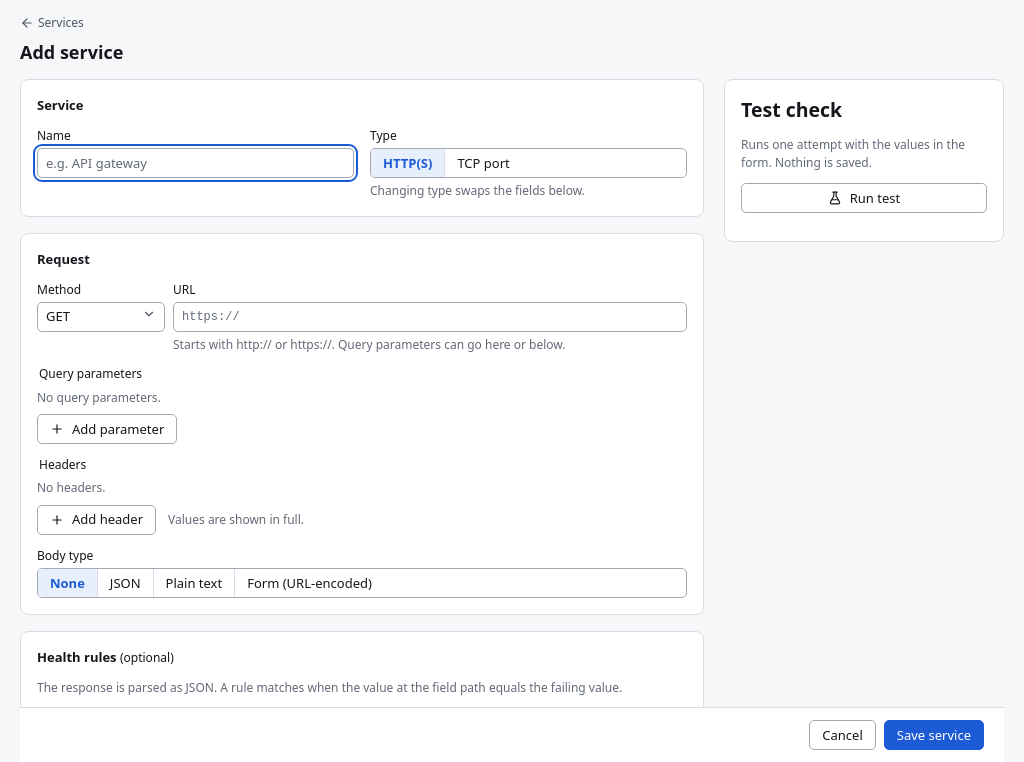
Scenario: what a test sends (FR-104) › does not need what a save needs: an empty name and bad other timing fields do not stop it
Expected: the field labelled "Name" is shown, [37,148,354,178]
Click the field labelled "URL": [430, 317] box [173,302,687,332]
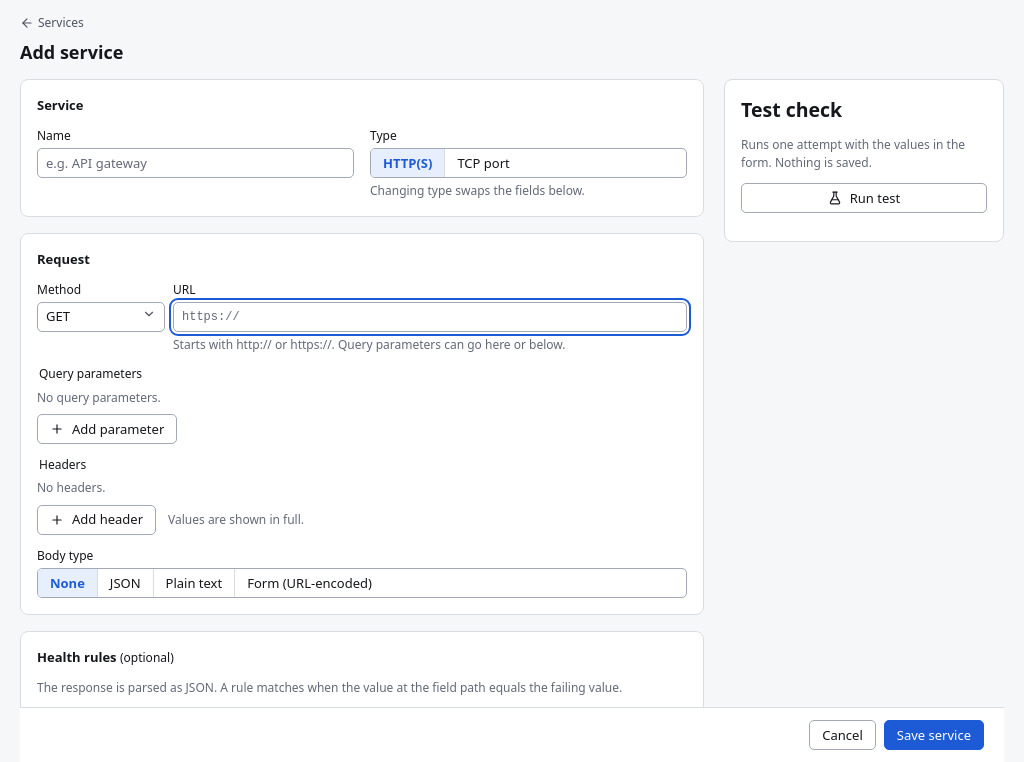
Type keys "https://probe.example.com/up"
(page scrolled)
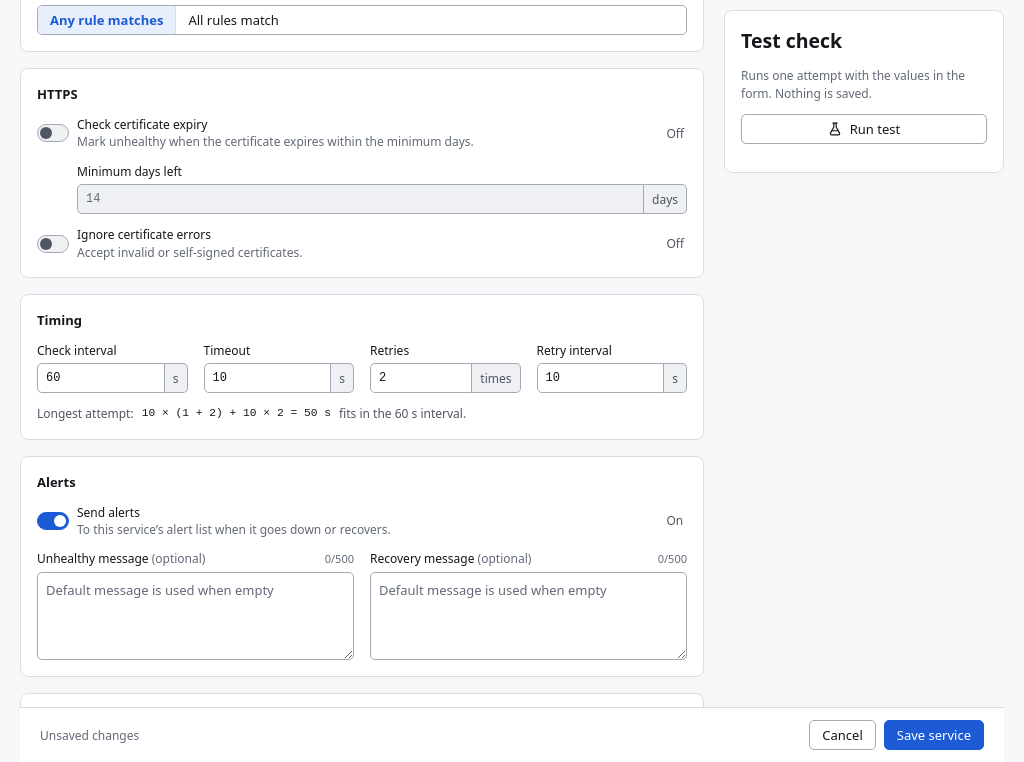
Replace the text in the field labelled "Check interval" with "abc": [101, 378] box [37,363,165,393]
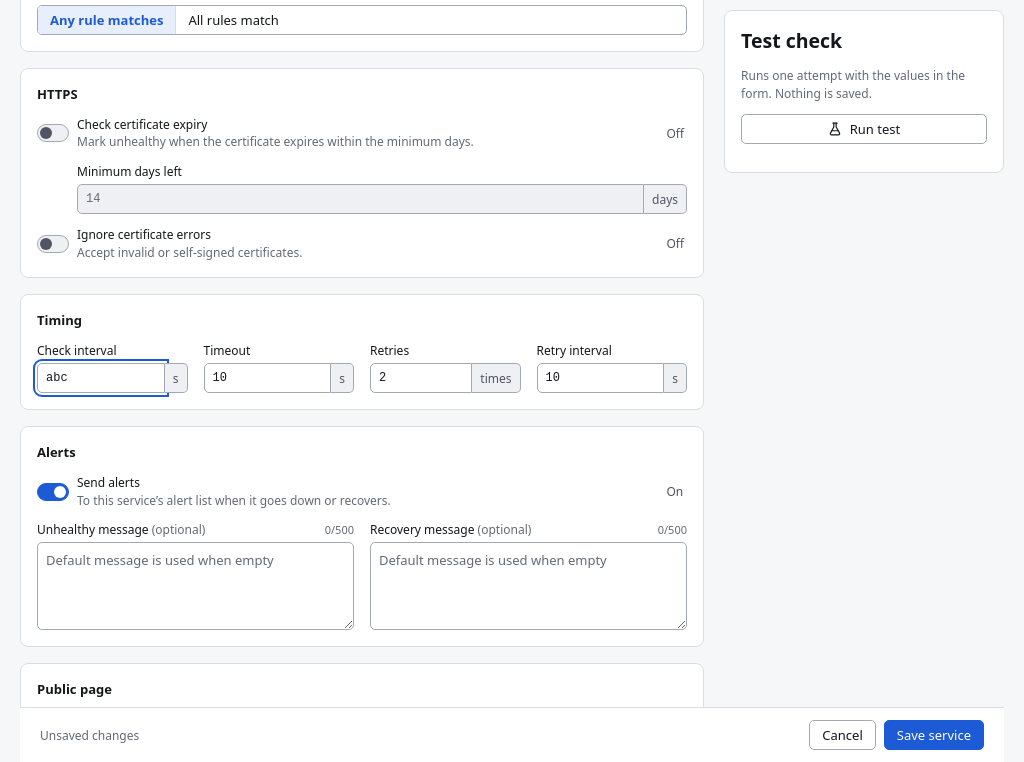
Replace the text in the field labelled "Retries" with "abc": [421, 378] box [370,363,472,393]
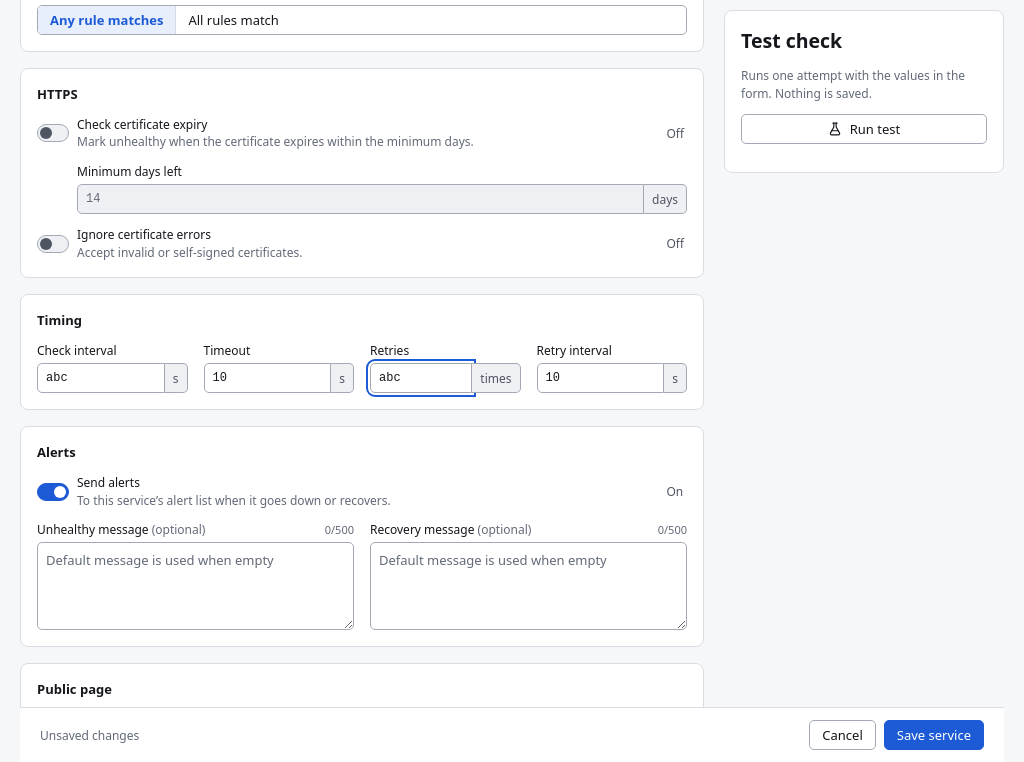
Click the button "Run test": [864, 129] box [741,114,987,144]
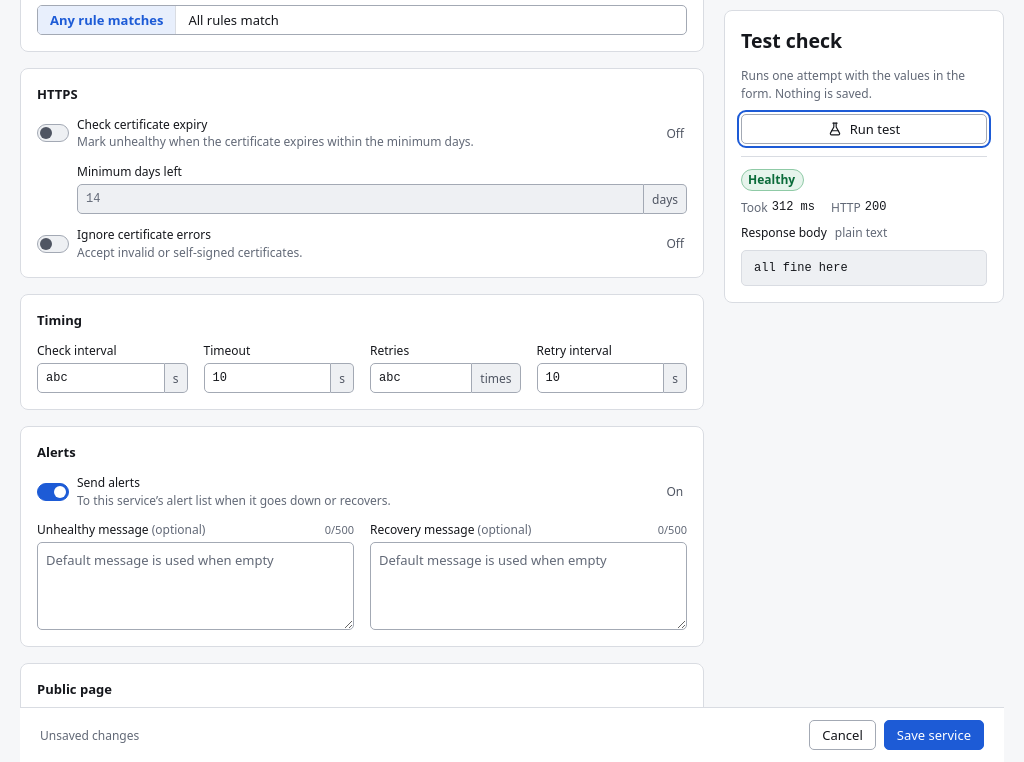
Expected: the text "Healthy" is shown, [741,169,804,191]
